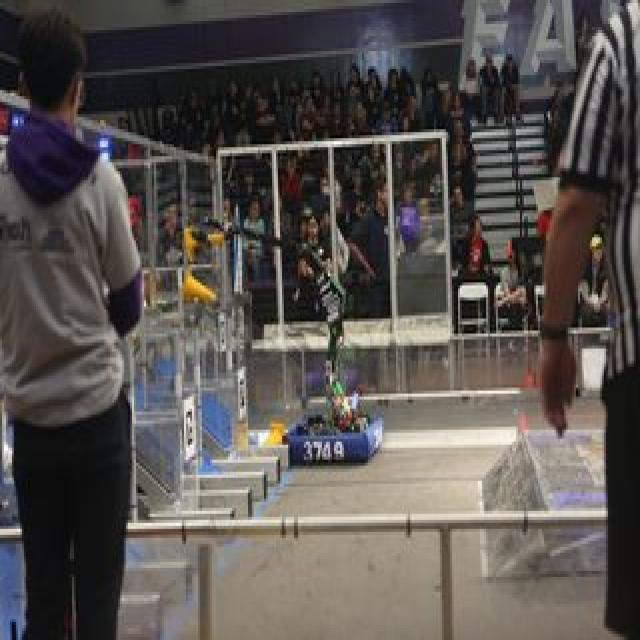robot: (157, 186, 393, 457)
